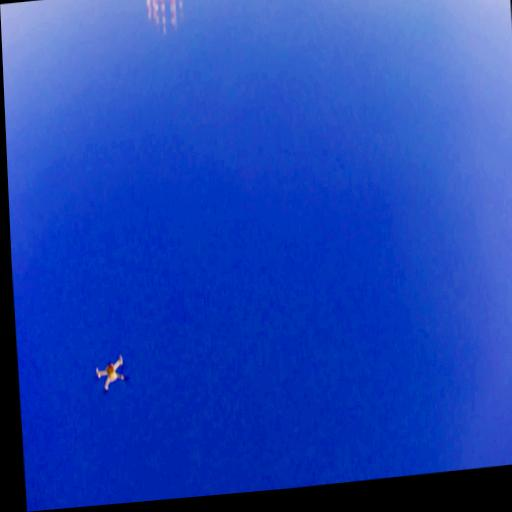drones: (89, 351, 128, 398)
